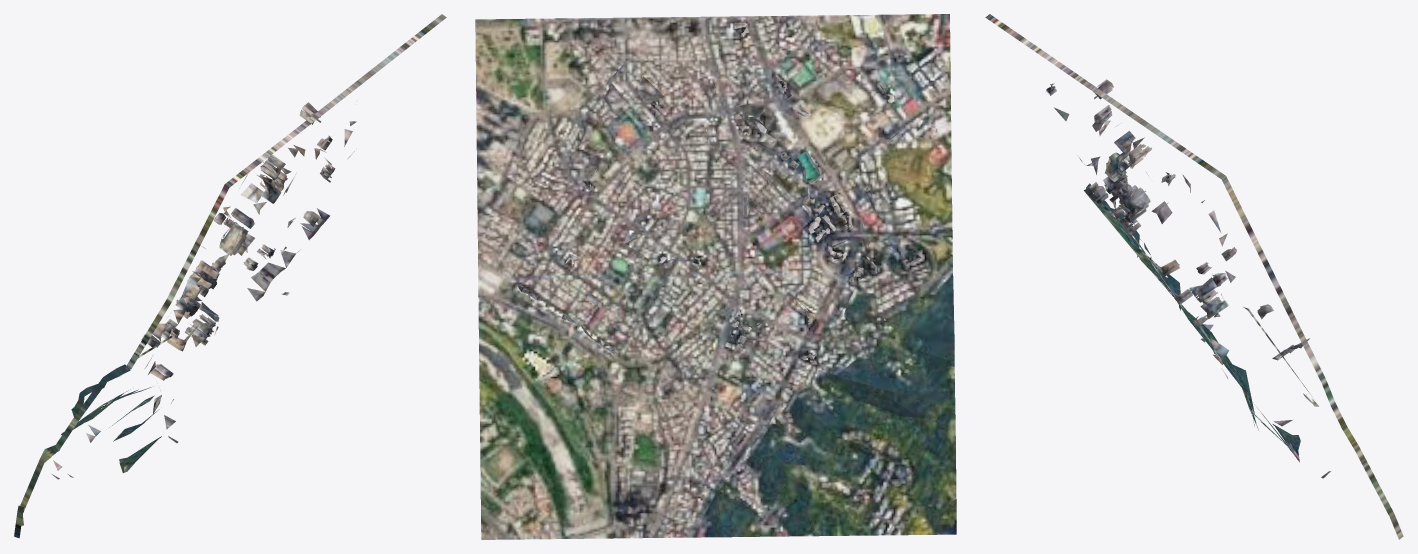
3 renders of one model, left to right at view 1: azimuth 30°, elevation 25°; view 2: azimuth 150°, elevation 25°; view 3: azimuth 270°, elevation 25°, orthographic. The views are drawn at different scales.
Bounding box in the file's own units: 2514 × 2227 × 2061.
Materials: 1 (1 with a texture image).
